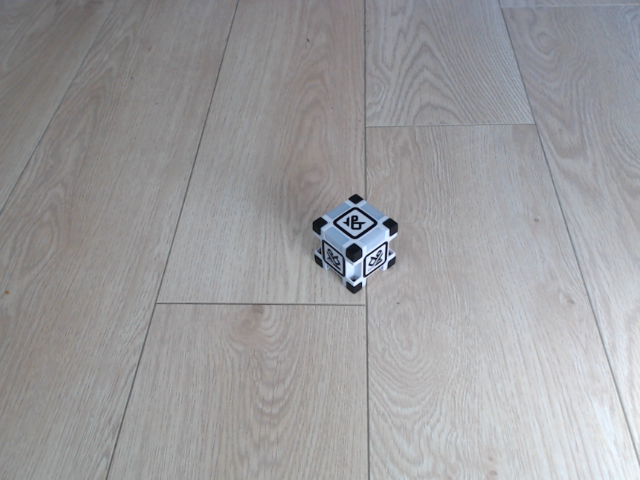block: (312, 192, 404, 296)
